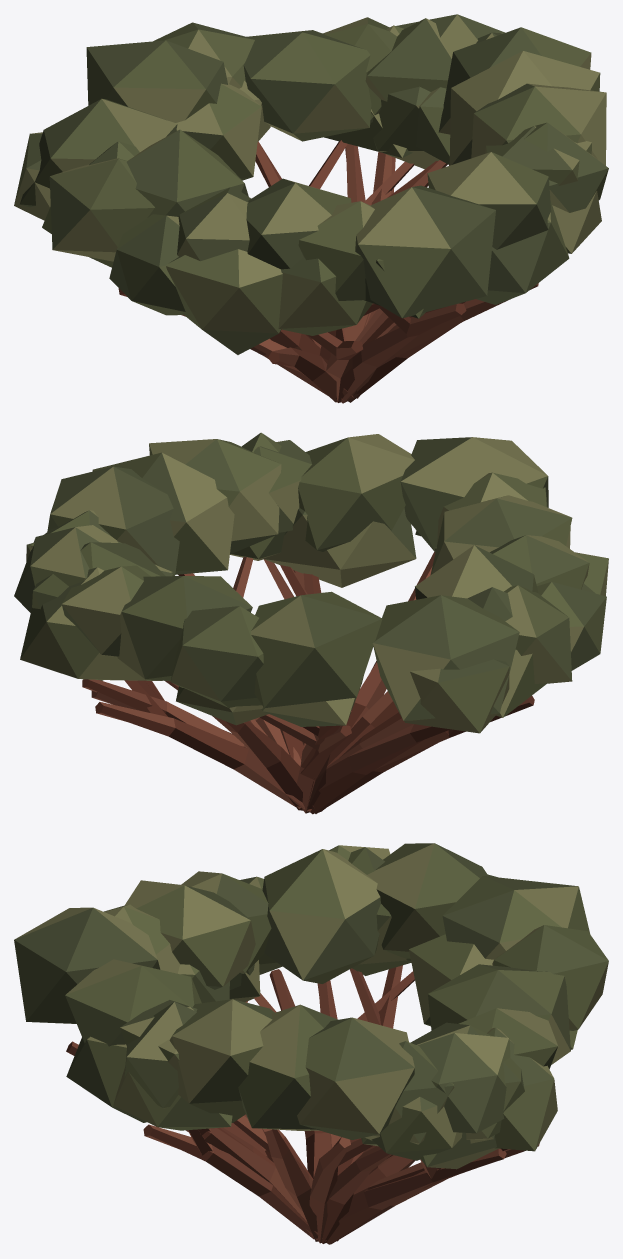
Rendered from shrub-manzanita.glb.
The picture shows the model from 3 angles, top to bottom: view 1: azimuth 30°, elevation 25°; view 2: azimuth 150°, elevation 25°; view 3: azimuth 270°, elevation 25°; orthographic projection. The views are drawn at different scales.
Visible parts, largest first — view 1: shrub-manzanita_v1_LOD0, shrub-manzanita_v0_LOD0, shrub-manzanita_v2_LOD0; view 2: shrub-manzanita_v2_LOD0, shrub-manzanita_v1_LOD0, shrub-manzanita_v0_LOD0; view 3: shrub-manzanita_v2_LOD0, shrub-manzanita_v1_LOD0, shrub-manzanita_v0_LOD0.
Boxes of the visible parts, bbox=[...] form: shrub-manzanita_v1_LOD0: bbox=[20, 17, 606, 403]; shrub-manzanita_v0_LOD0: bbox=[126, 25, 608, 402]; shrub-manzanita_v2_LOD0: bbox=[14, 14, 601, 402]; shrub-manzanita_v2_LOD0: bbox=[14, 466, 572, 813]; shrub-manzanita_v1_LOD0: bbox=[61, 437, 608, 814]; shrub-manzanita_v0_LOD0: bbox=[20, 432, 589, 813]; shrub-manzanita_v2_LOD0: bbox=[66, 847, 608, 1243]; shrub-manzanita_v1_LOD0: bbox=[14, 843, 570, 1244]; shrub-manzanita_v0_LOD0: bbox=[65, 849, 577, 1244].
Size of what is drawn, in the model's own units: 3.76 by 2.15 by 3.66.
